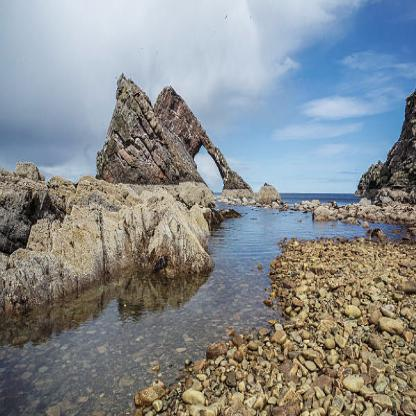Metamorphic_Quartize: (92, 56, 224, 195)
